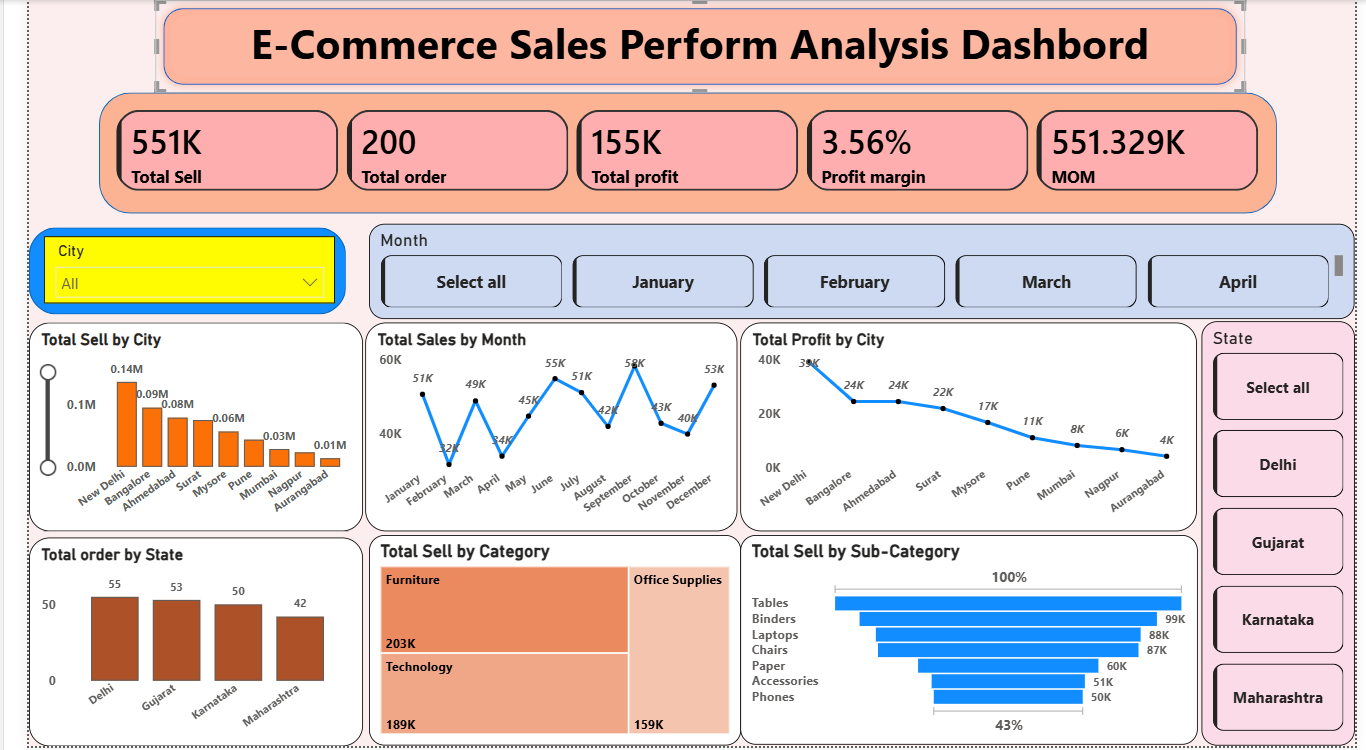

What the dashboard file says about the page in this screenshot:
{"tool":"powerbi","page":{"name":"Page 1","canvas":[1280,720],"ordinal":0},"visuals":[{"type":"shape","box":[121.8,0,1051.9,89.7],"z":0},{"type":"shape","box":[67.7,89.2,1136.9,116.9],"z":1000},{"type":"cardVisual","fields":{"Data":["SalesData.Total Sell","all measure.Total order","all measure.Total profit","all measure.Profit margin","all measure.MOM"]},"box":[67.7,89.2,1136.9,112.3],"z":2000},{"type":"columnChart","fields":{"Category":["SalesData.City"],"Y":["all measure.Total Sell"]},"box":[0,311,322.5,201.5],"z":3000},{"type":"columnChart","fields":{"Category":["SalesData.State"],"Y":["all measure.Total order"]},"box":[0,518.3,322.5,201.4],"z":4000},{"type":"shape","box":[0,219.1,305.9,83.8],"z":5000},{"type":"slicer","fields":{"Values":["SalesData.City"]},"box":[14.7,227.9,280.9,64.7],"z":6000},{"type":"treemap","fields":{"Group":["SalesData.Category"],"Values":["all measure.Total Sell"]},"box":[327.9,516.2,358.8,202.9],"z":7000},{"type":"lineChart","fields":{"Category":["date.Date.Variation.Date Hierarchy.Month"],"Y":["Sum(SalesData.Sales)"]},"box":[324.9,311,358.9,201.4],"z":8000},{"type":"funnel","fields":{"Category":["SalesData.Sub-Category"],"Y":["all measure.Total Sell"]},"box":[687,516.9,441.6,202.6],"z":9000},{"type":"lineChart","fields":{"Category":["SalesData.City"],"Y":["Sum(SalesData.Profit)"]},"box":[687,311,440.8,201.7],"z":10000},{"type":"advancedSlicerVisual","fields":{"Values":["date.Date.Variation.Date Hierarchy.Month"]},"box":[328.2,215.4,951.3,92.3],"z":11000},{"type":"advancedSlicerVisual","fields":{"Values":["SalesData.State"]},"box":[1131.8,310.6,148.2,409.4],"z":12000}]}

Visuals, with their boxes in screenshot pixels (x1, y1, x2, y2), scaled from the page's 1280x720 canvas onto the 1366x750 screenshot:
shape: (130,0,1253,93)
shape: (72,93,1286,215)
cardVisual - SalesData.Total Sell x all measure.Total order: (72,93,1286,210)
columnChart - SalesData.City x all measure.Total Sell: (0,324,344,534)
columnChart - SalesData.State x all measure.Total order: (0,540,344,749)
shape: (0,228,326,316)
slicer - SalesData.City: (16,237,315,305)
treemap - SalesData.Category x all measure.Total Sell: (350,538,733,749)
lineChart - date.Date.Variation.Date Hierarchy.Month x Sum(SalesData.Sales): (347,324,730,534)
funnel - SalesData.Sub-Category x all measure.Total Sell: (733,538,1204,749)
lineChart - SalesData.City x Sum(SalesData.Profit): (733,324,1204,534)
advancedSlicerVisual - date.Date.Variation.Date Hierarchy.Month: (350,224,1365,321)
advancedSlicerVisual - SalesData.State: (1208,324,1365,749)
